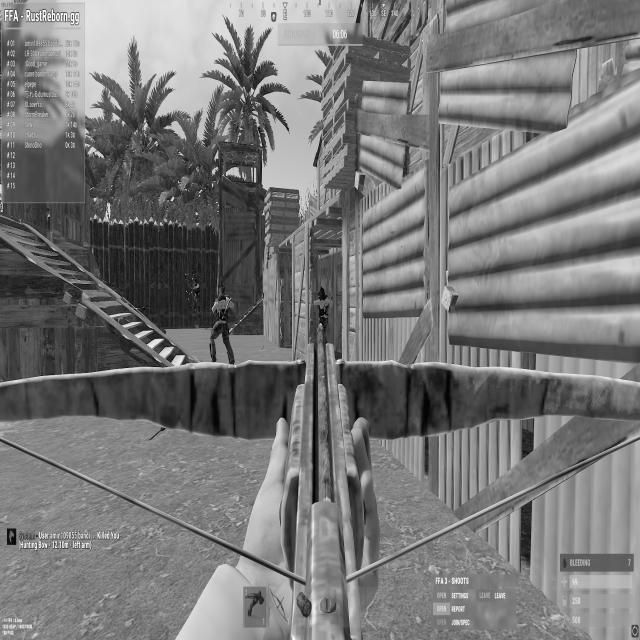Player: (208, 282, 236, 366), (313, 286, 333, 338), (192, 276, 202, 314), (316, 286, 327, 300), (218, 285, 225, 299), (193, 277, 199, 286)
